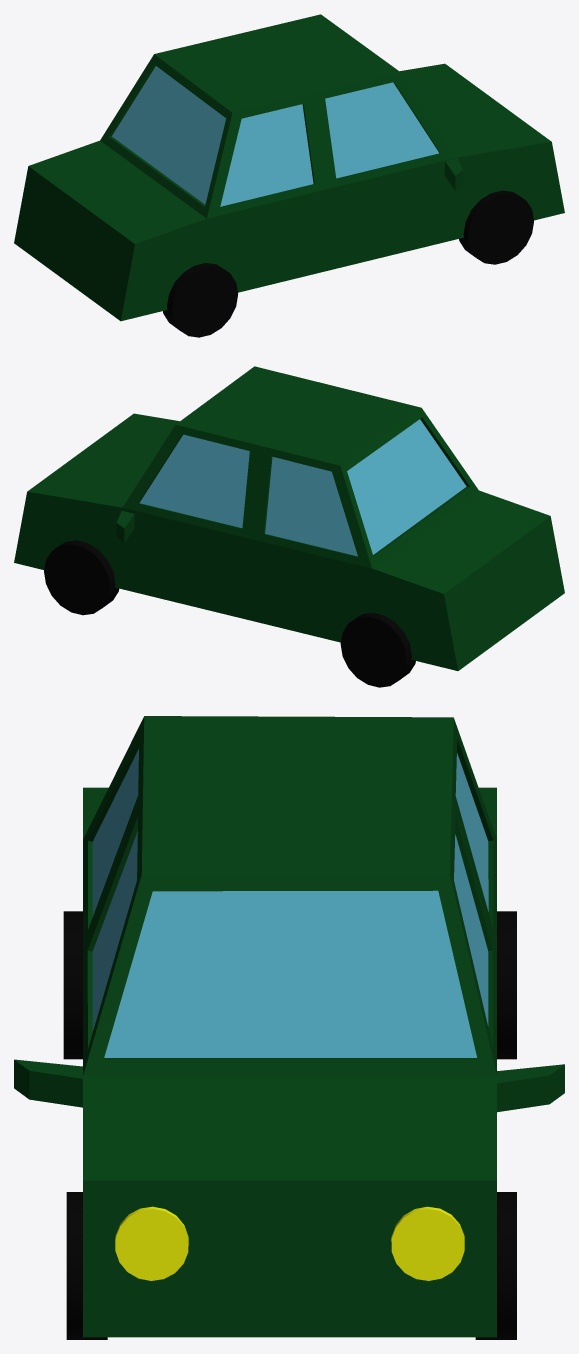
Rendered from green_car.fbx.
The picture shows the model from 3 angles, top to bottom: view 1: azimuth 30°, elevation 25°; view 2: azimuth 150°, elevation 25°; view 3: azimuth 270°, elevation 25°; orthographic projection. The views are drawn at different scales.
Visible parts, largest first — view 1: Box001, Cylinder003, Cylinder004, Box002; view 2: Box001, Cylinder001, Cylinder002, Box003; view 3: Box001, Cylinder006, Cylinder005, Cylinder001, Cylinder002, Cylinder003, Box002, Box003, Cylinder004.
Part boxes in pixels (box(x1,y1,x2,y2)): Box001: box(14, 14, 564, 321); Cylinder003: box(163, 263, 237, 337); Cylinder004: box(459, 190, 533, 264); Box002: box(445, 158, 463, 190); Box001: box(14, 366, 564, 670); Cylinder001: box(44, 540, 119, 615); Cylinder002: box(340, 613, 415, 687); Box003: box(116, 511, 134, 543); Box001: box(83, 716, 496, 1337); Cylinder006: box(115, 1206, 188, 1280); Cylinder005: box(391, 1206, 464, 1280); Cylinder001: box(475, 1192, 516, 1339); Cylinder002: box(497, 911, 516, 1059); Cylinder003: box(63, 911, 82, 1059); Box002: box(14, 1059, 82, 1107); Box003: box(497, 1064, 564, 1112); Cylinder004: box(66, 1192, 107, 1339).
Size of the model in its own units: 60.31 by 25.49 by 33.4.
